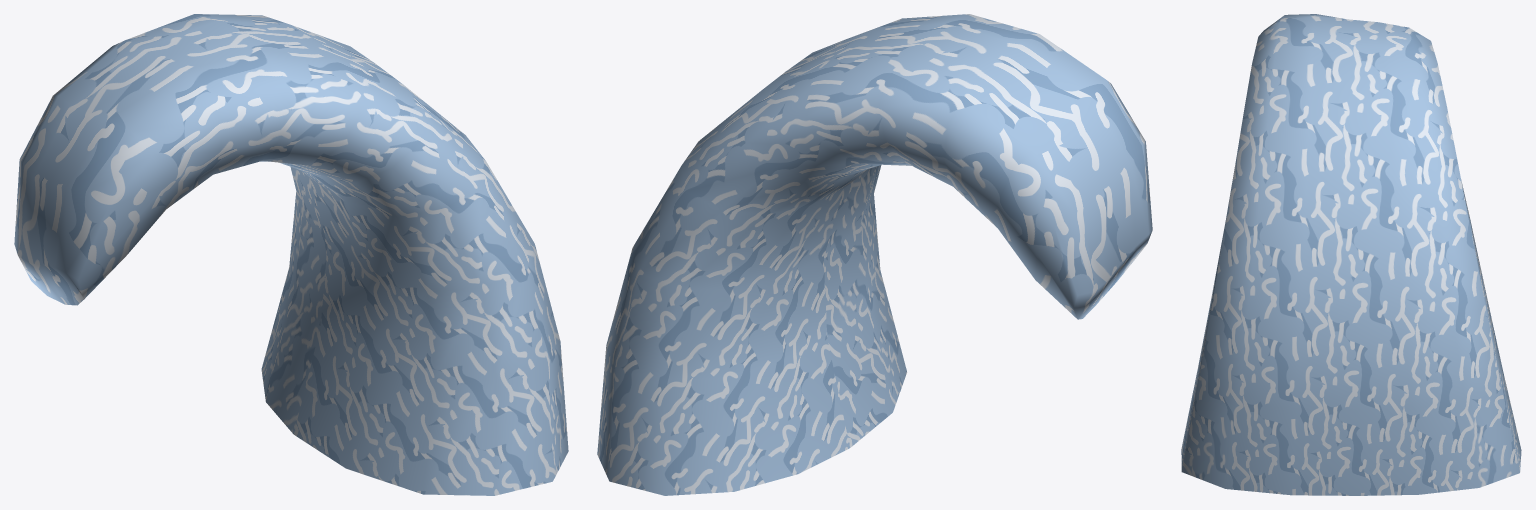
Rendered from Wave.fbx.
3 renders of one model, left to right at view 1: azimuth 30°, elevation 25°; view 2: azimuth 150°, elevation 25°; view 3: azimuth 270°, elevation 25°, orthographic. The views are drawn at different scales.
Visible parts, largest first — view 1: pCube1; view 2: pCube1; view 3: pCube1.
Part boxes in pixels (bbox=[...]): pCube1: bbox=[14, 14, 568, 495]; pCube1: bbox=[597, 14, 1152, 495]; pCube1: bbox=[1181, 14, 1521, 495].
Bounding box in the file's own units: 4.92 × 4.22 × 3.79.
